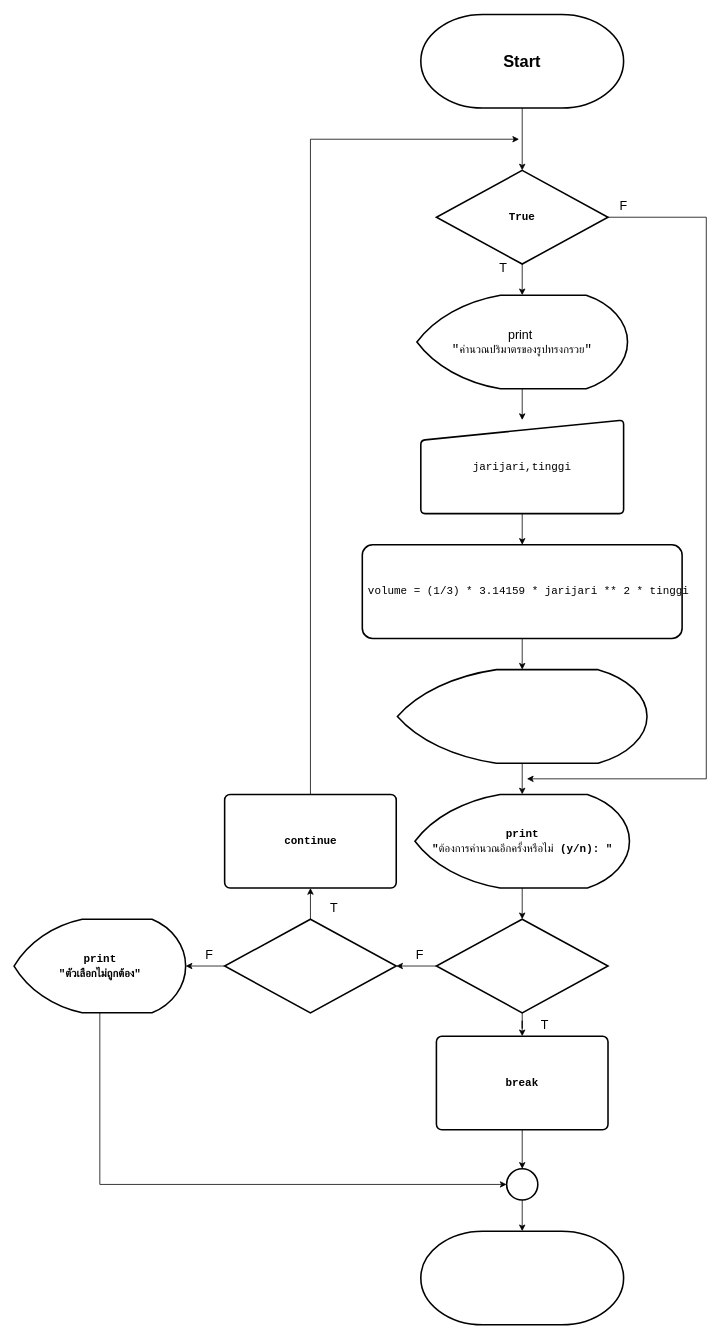
Image size: 726x1338. Some labels were removed from this diagram. Each missing label, with the centre of its shape:
choice == " n ": [310,965]
choice == "y": [521,965]
print " ปริมาตรของรูปทรงกรวย =", volume, "-------------------------": [521,716]
Stop: [522,1277]
